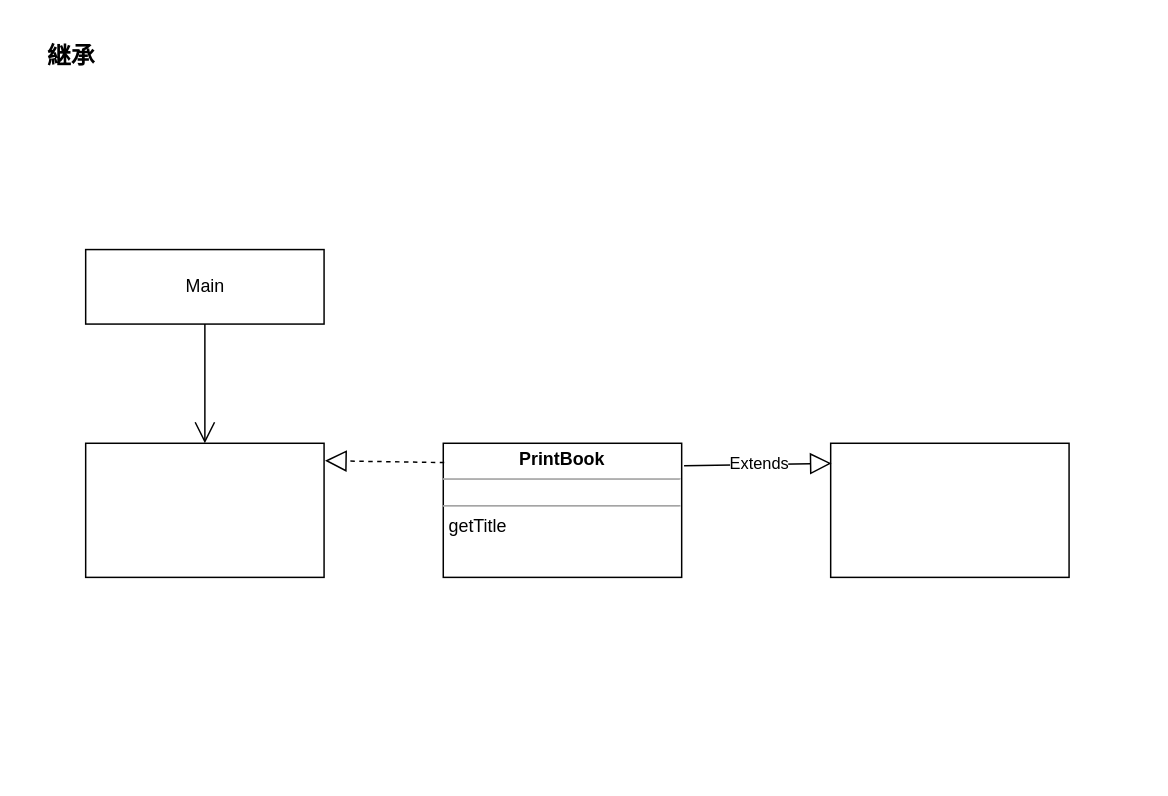
Some shapes in this 1168 by 796 pixel diagram are drawn without their labels. The centre of each missing label's shape, as x and y in pixels:
<<Interface>> Print getTitle: [204,509]
Book getTitle: [949,509]
